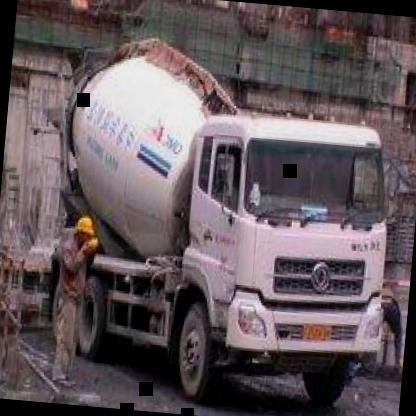helmet: (71, 214, 96, 246)
